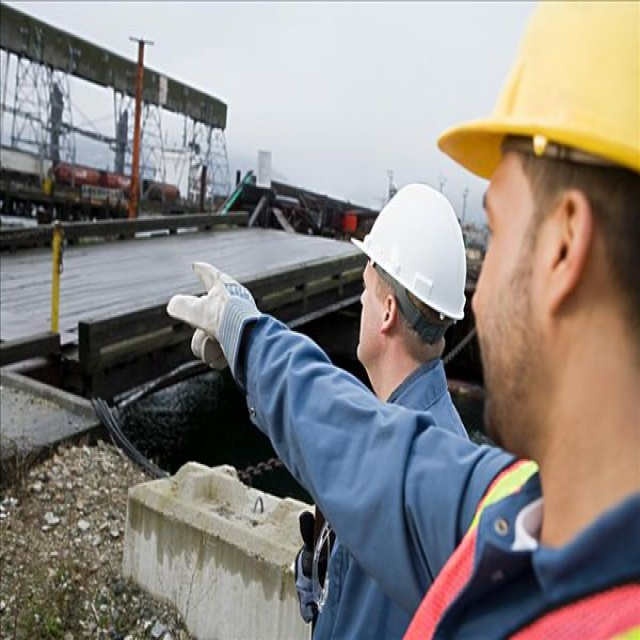Helmet: (424, 1, 640, 473), (339, 161, 476, 399)
Reflective vest: (389, 458, 640, 640)
